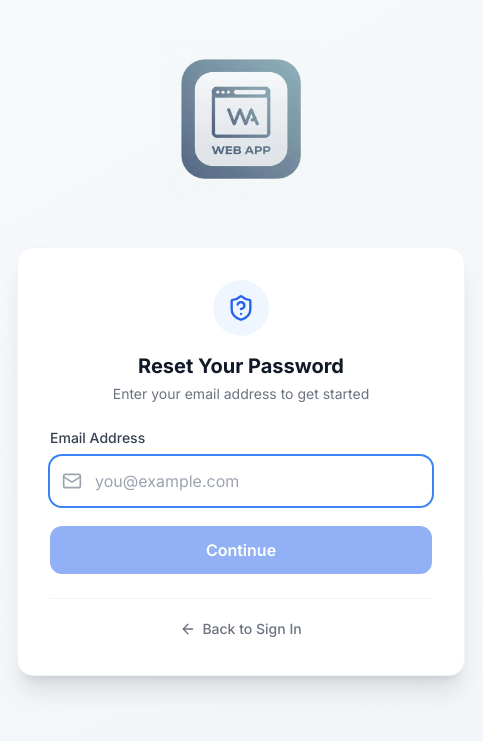
Scenario: ForgotPasswordPage › shows error when no question found
Step 1. Type "unknown@example.com" into the field with placeholder "you@example.com" → coordinates (241, 480), box [50, 456, 432, 506]
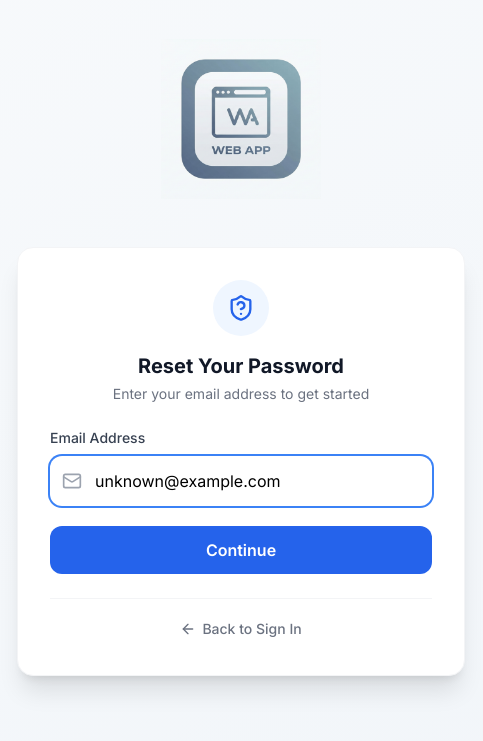
Step 2. Click the button "Continue" → coordinates (241, 550), box [50, 526, 432, 574]
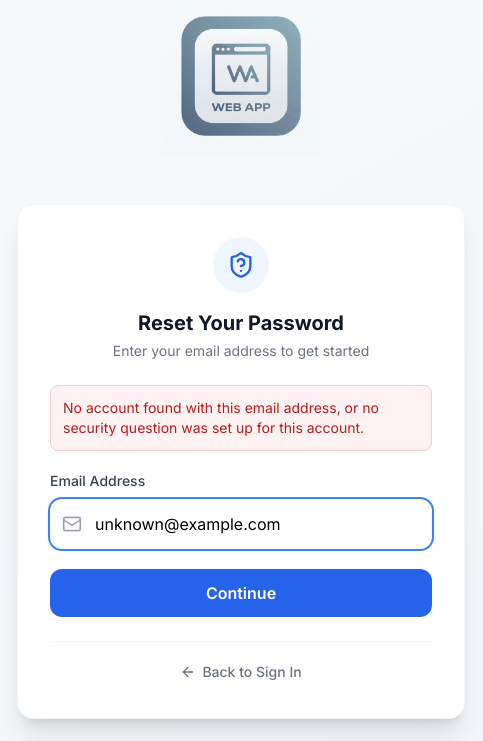
Expected: the text "No account found" is shown, [63, 398, 379, 436]
